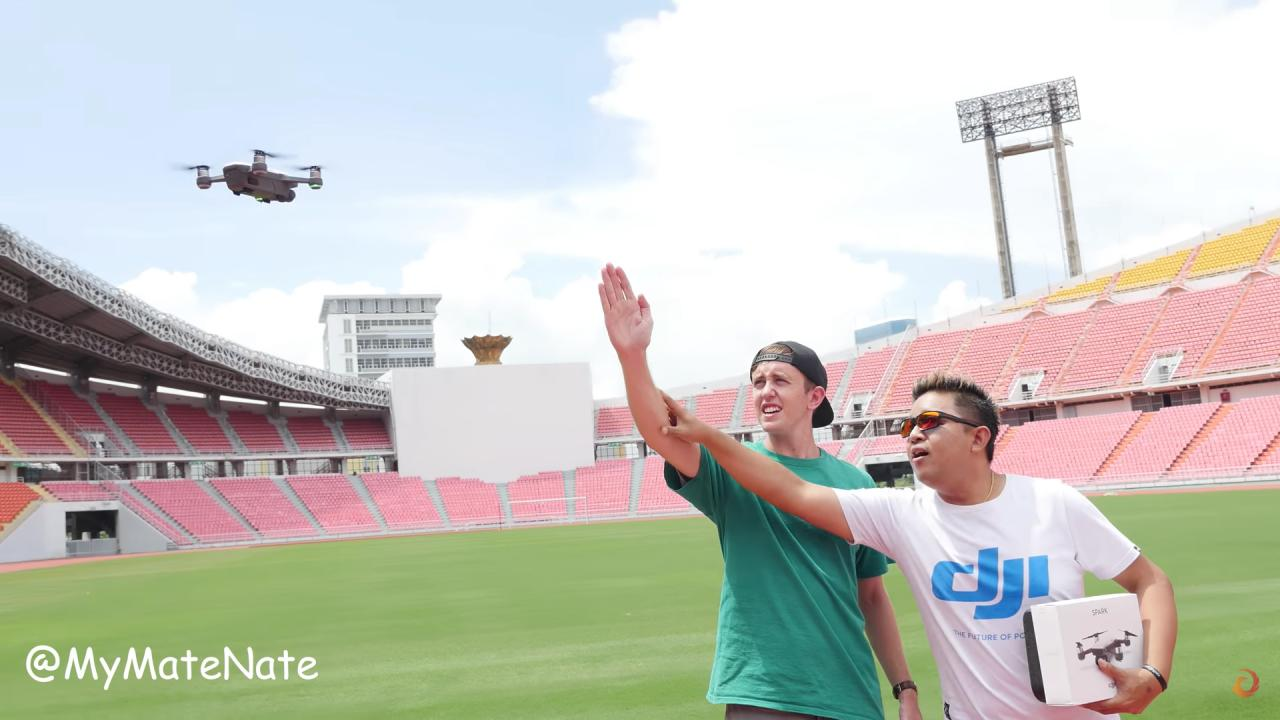Drone: (161, 139, 338, 218)
